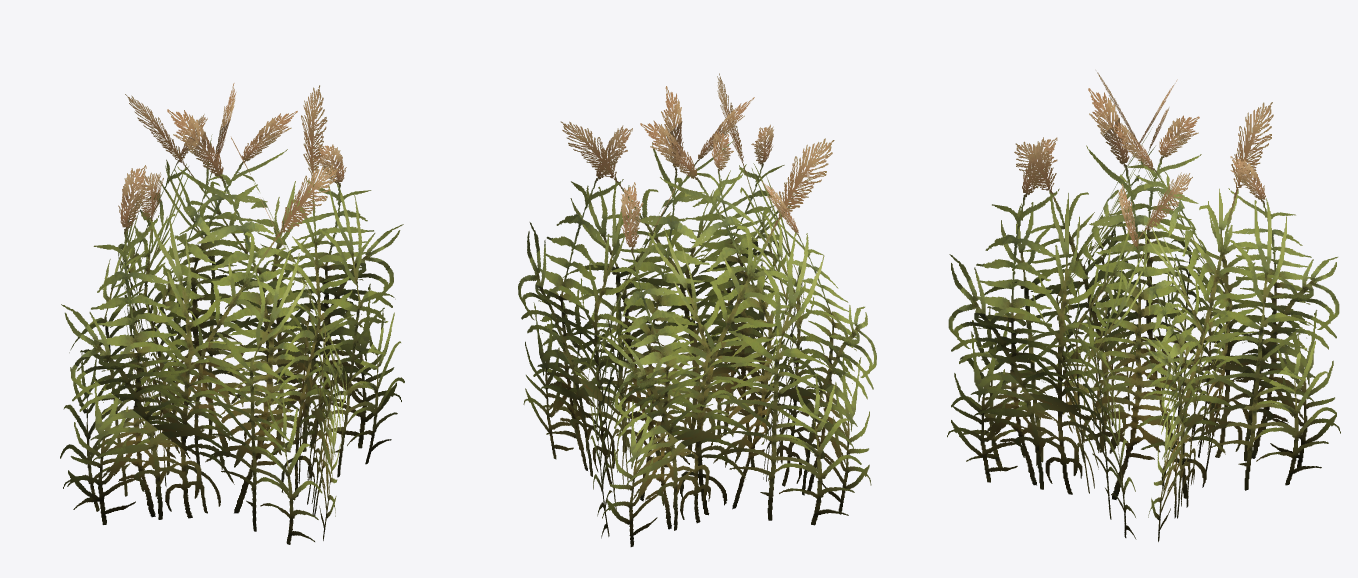
The model's file is reed_giant.glb.
The picture shows the model from 3 angles, left to right: view 1: azimuth 30°, elevation 25°; view 2: azimuth 150°, elevation 25°; view 3: azimuth 270°, elevation 25°; orthographic projection.
Bounding box in the file's own units: 7.73 × 8.13 × 7.73.
Materials: 1 (1 with a texture image).
